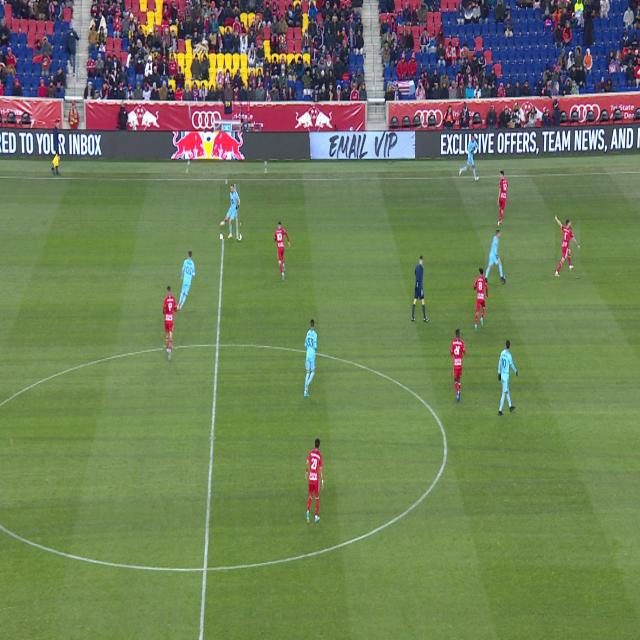football: (237, 233, 242, 242)
player: (555, 215, 580, 277), (498, 340, 518, 416), (305, 439, 323, 523), (177, 252, 195, 311), (221, 184, 240, 239), (163, 287, 177, 361), (451, 330, 465, 402), (304, 320, 317, 397), (486, 231, 504, 283), (459, 134, 479, 180), (474, 268, 488, 331), (275, 222, 290, 279), (497, 171, 508, 225)
referee: (412, 256, 429, 322)
